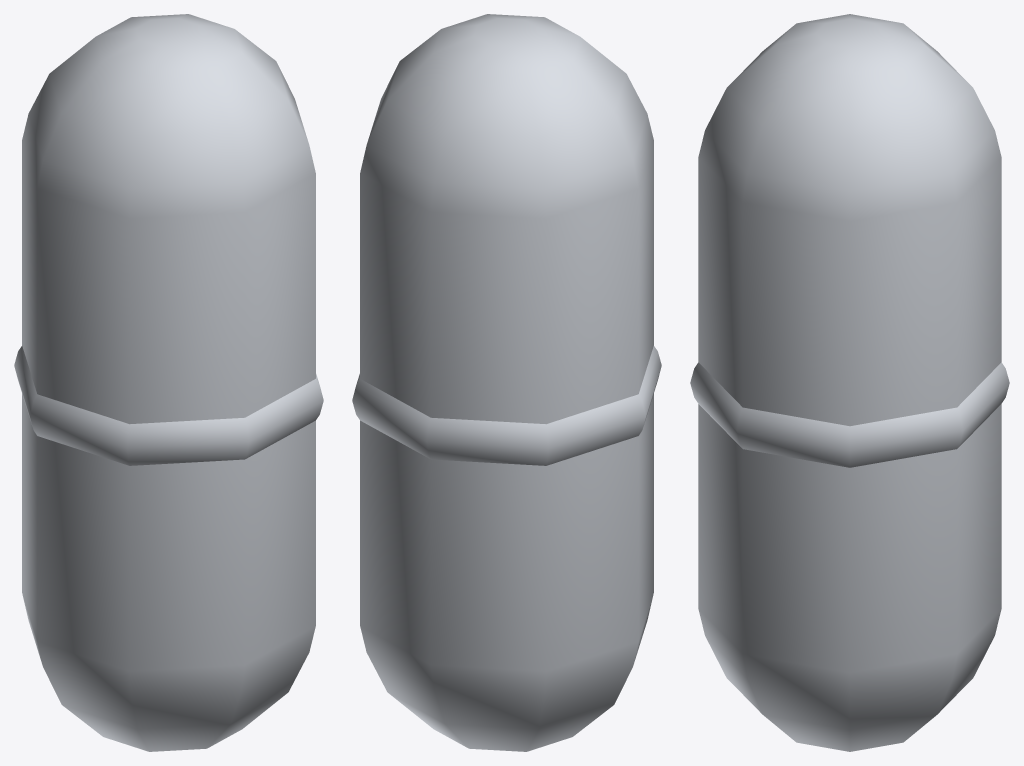
The model's file is heating_equipment_magnetic_stirring_capsule.glb.
The picture shows the model from 3 angles, left to right: view 1: azimuth 30°, elevation 25°; view 2: azimuth 150°, elevation 25°; view 3: azimuth 270°, elevation 25°; orthographic projection.
Parts seen in each view (by area): view 1: heating_equipment_magnetic_stirring_capsule; view 2: heating_equipment_magnetic_stirring_capsule; view 3: heating_equipment_magnetic_stirring_capsule.
Part boxes in pixels (x1,y1,x2,y2): heating_equipment_magnetic_stirring_capsule: (14,14,323,751); heating_equipment_magnetic_stirring_capsule: (352,14,661,751); heating_equipment_magnetic_stirring_capsule: (690,14,1009,751).
Size of the model in its own units: 2.24 by 5.4 by 2.24.
1 material, 1 textured.
